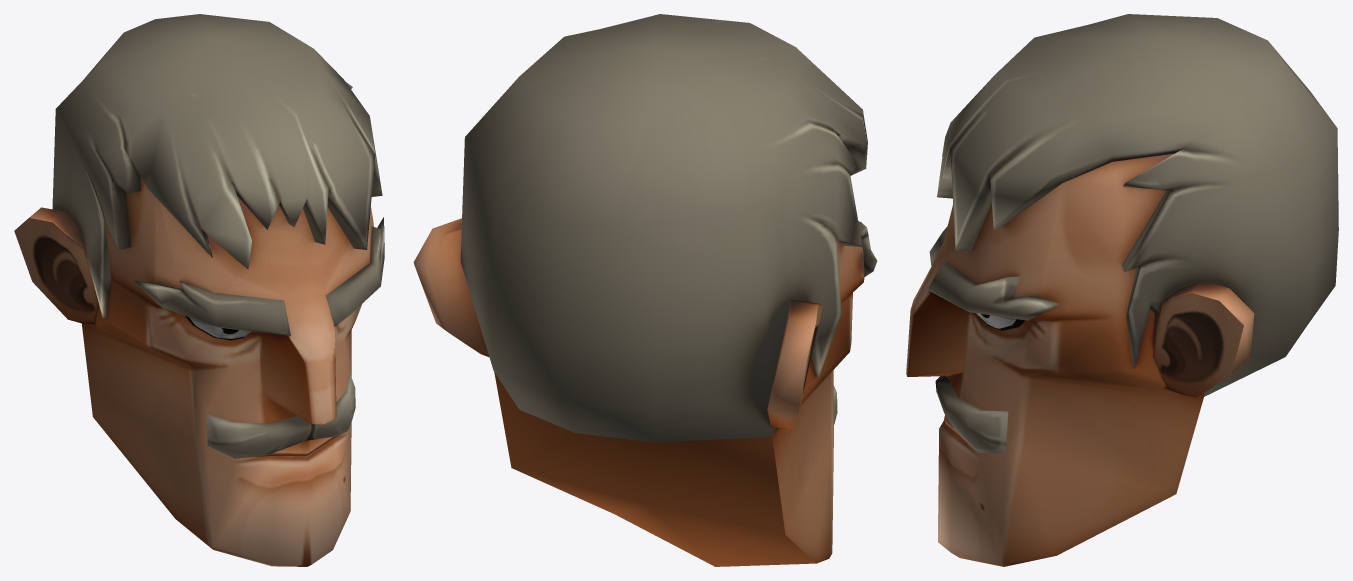
Rendered from IT_PLY_ST_0010_JohnDoe_10.FBX.
3 renders of one model, left to right at view 1: azimuth 30°, elevation 25°; view 2: azimuth 150°, elevation 25°; view 3: azimuth 270°, elevation 25°, orthographic. The views are drawn at different scales.
Parts seen in each view (by area): view 1: IT_PLY_ST_0010_JohnDoe_10; view 2: IT_PLY_ST_0010_JohnDoe_10; view 3: IT_PLY_ST_0010_JohnDoe_10.
Part boxes in pixels (x1,y1,x2,y2): IT_PLY_ST_0010_JohnDoe_10: [14, 14, 384, 566]; IT_PLY_ST_0010_JohnDoe_10: [413, 14, 877, 566]; IT_PLY_ST_0010_JohnDoe_10: [906, 14, 1338, 566].
Size of the model in its own units: 23.05 by 31.94 by 24.6.
